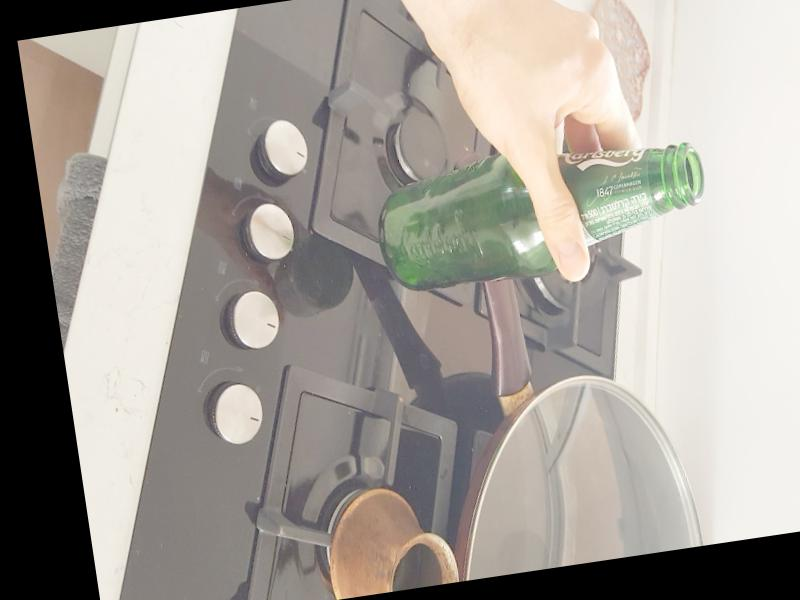Beer: (372, 139, 711, 295)
